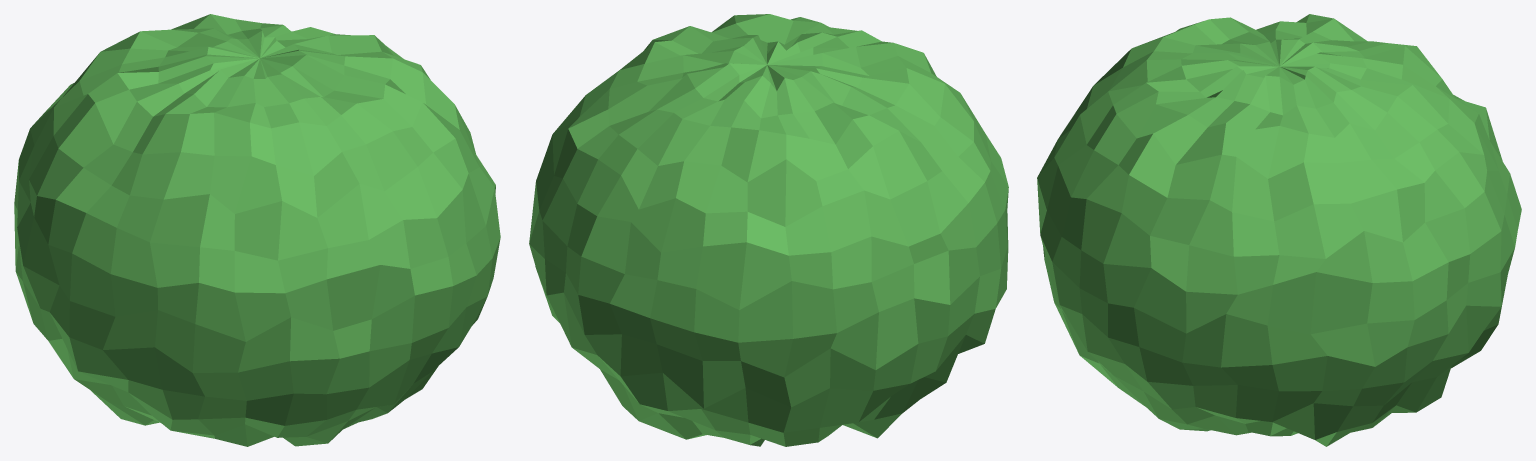
File: lettuce.glb
The picture shows the model from 3 angles, left to right: view 1: azimuth 30°, elevation 25°; view 2: azimuth 150°, elevation 25°; view 3: azimuth 270°, elevation 25°; orthographic projection. The views are drawn at different scales.
Parts seen in each view (by area): view 1: Sphere.002; view 2: Sphere.002; view 3: Sphere.002.
Boxes of the visible parts, x1,y1,x2,y2 form: Sphere.002: [14, 14, 500, 446]; Sphere.002: [529, 14, 1008, 446]; Sphere.002: [1037, 14, 1521, 446].
Size of the model in its own units: 1.01 by 0.8402 by 1.04.
